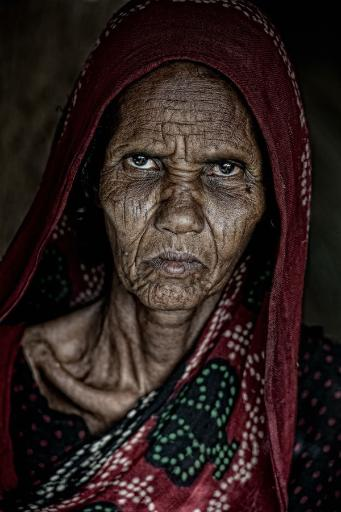left_eye: (210, 158, 247, 182)
left_lip_corner: (199, 256, 211, 277)
right_eye: (121, 151, 162, 176)
right_lip_corner: (144, 255, 158, 266)
